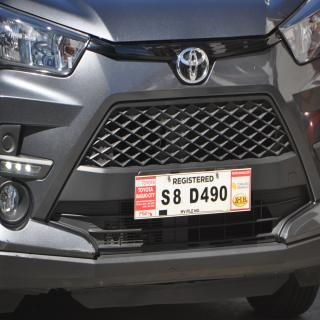license: (135, 169, 252, 220)
